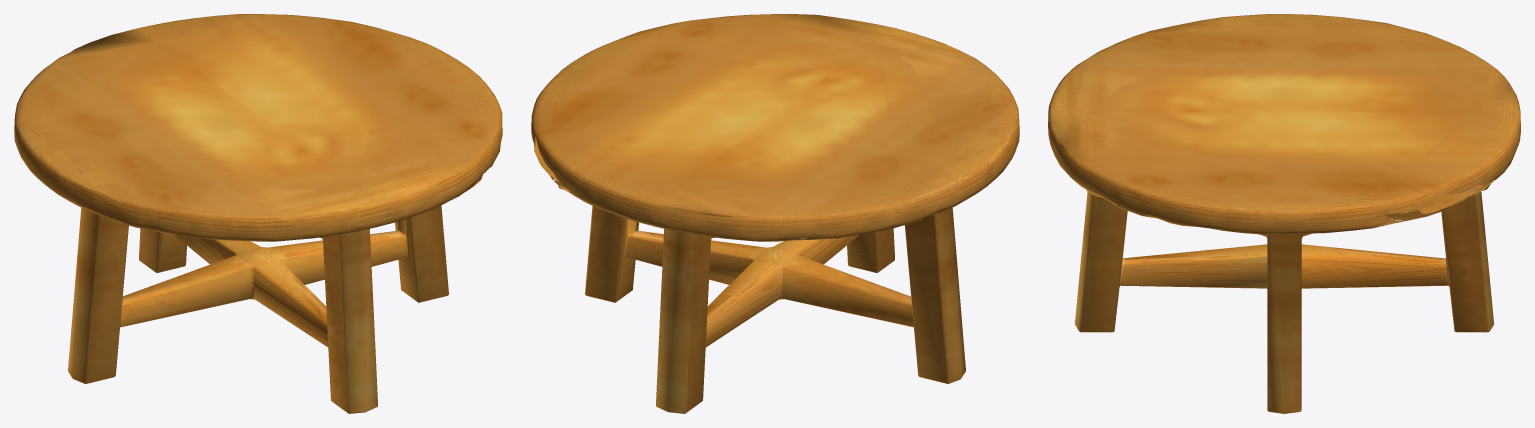
The model's file is Meshy_AI__0420022529_texture.glb.
3 views of the same model, side by side, from view 1: azimuth 30°, elevation 25°; view 2: azimuth 150°, elevation 25°; view 3: azimuth 270°, elevation 25° (orthographic). The views are drawn at different scales.
Bounding box in the file's own units: 2 × 0.9969 × 2.
Materials: 1 (1 with a texture image).
